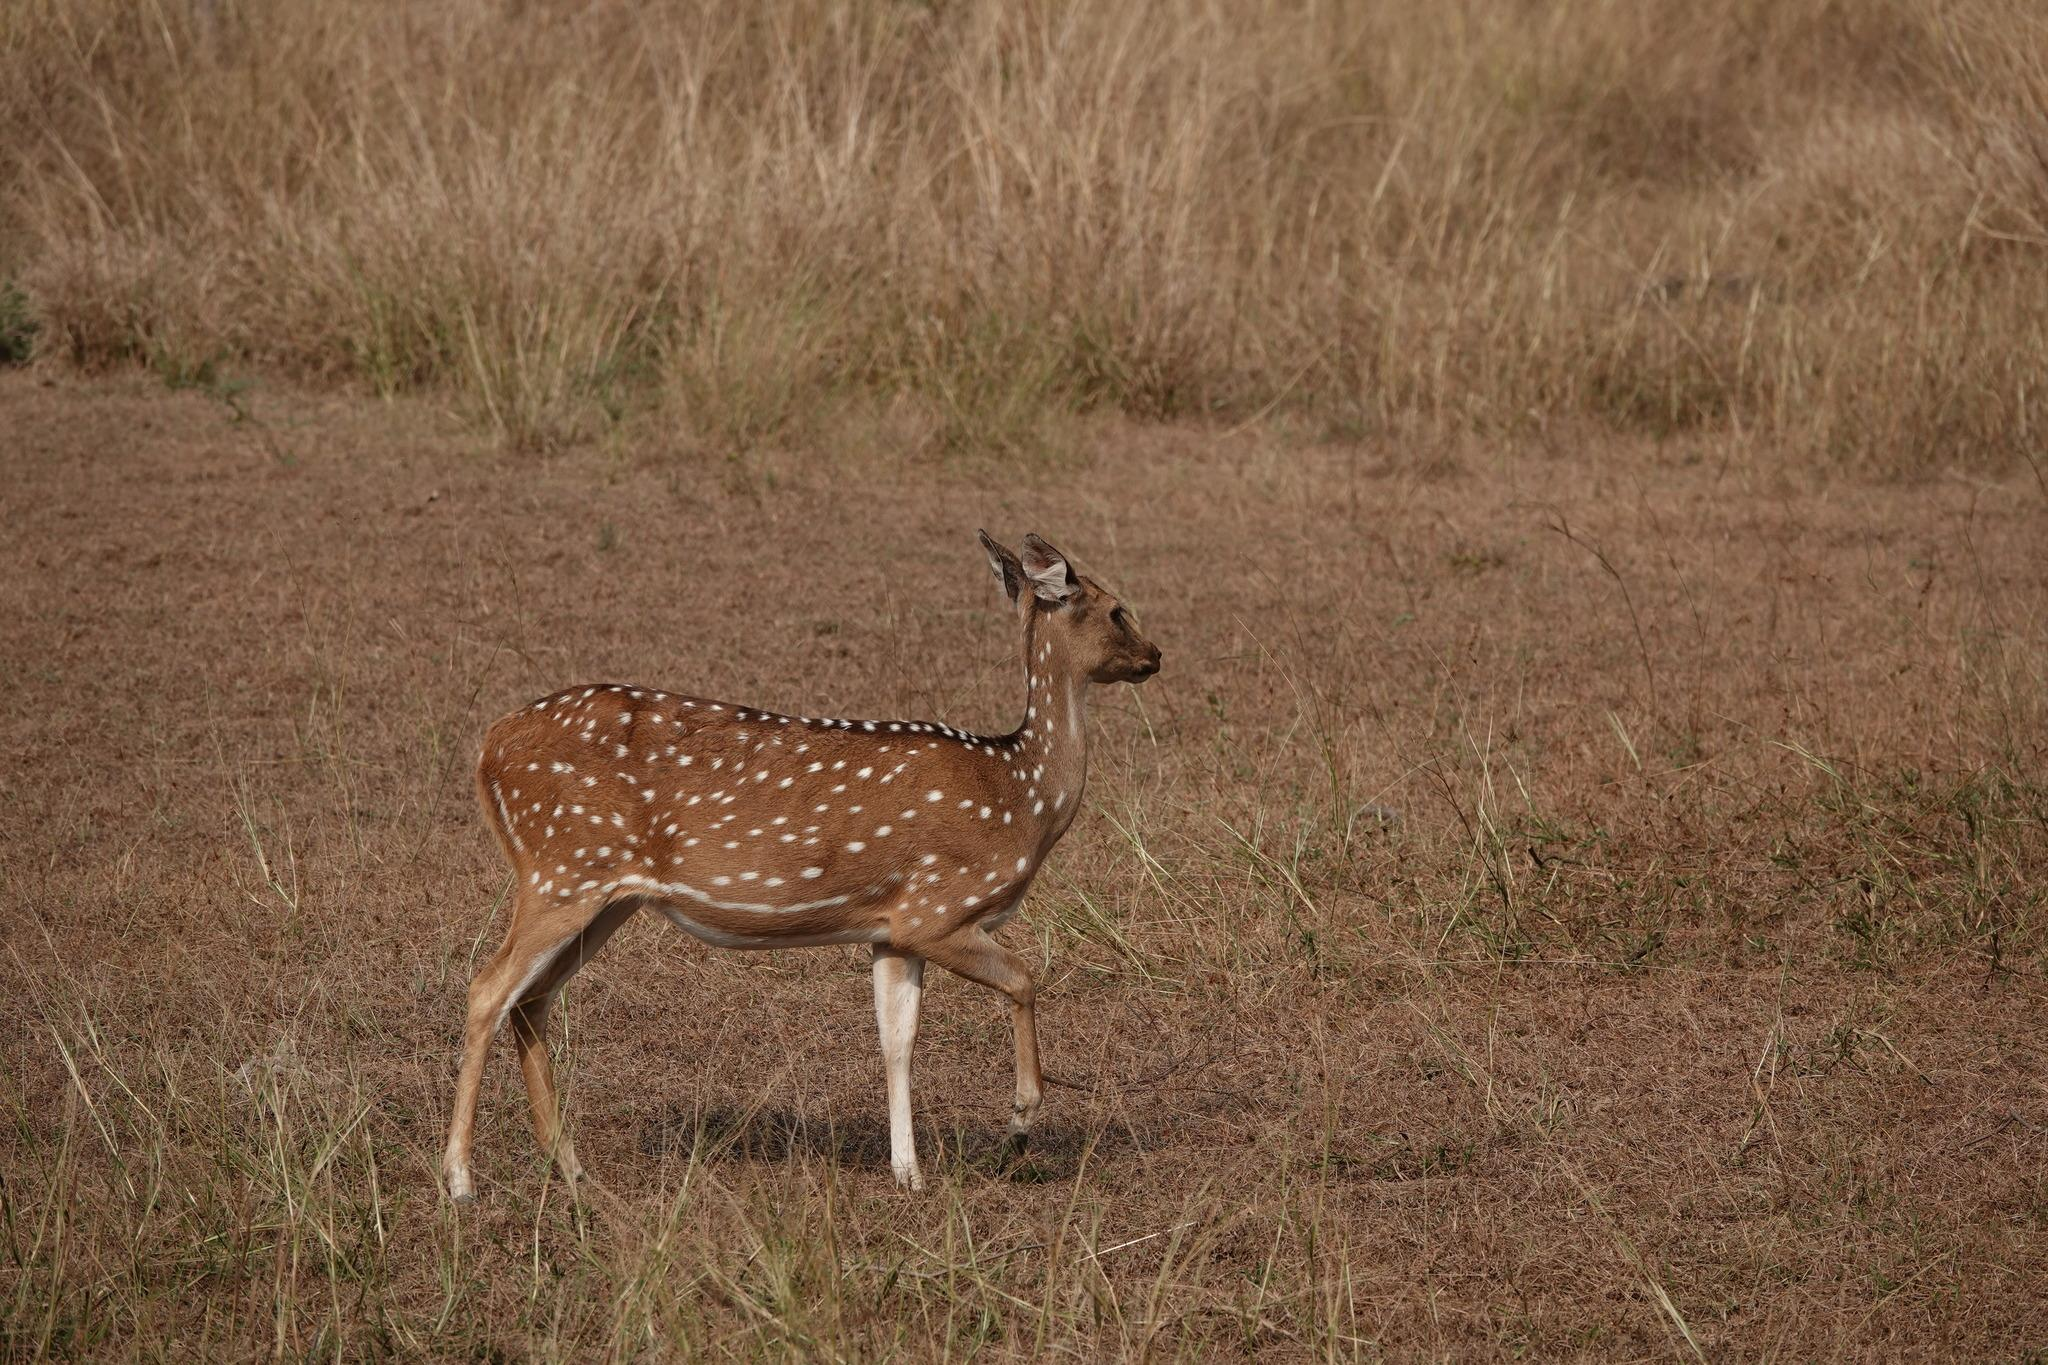Deer: (448, 535, 1162, 1197)
